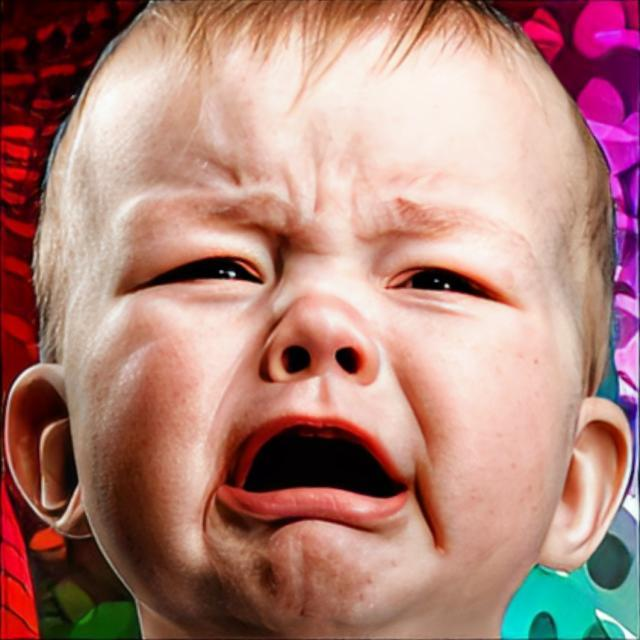sad: (59, 4, 591, 640)
